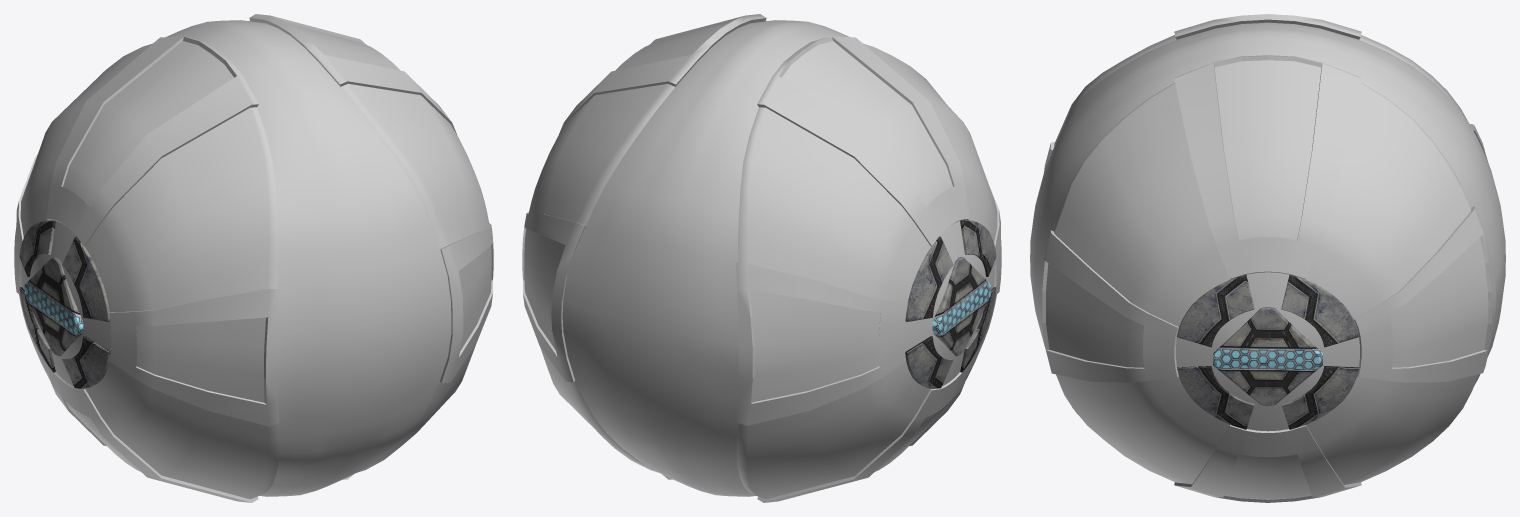
File: Ball_Sci_fi.fbx
3 renders of one model, left to right at view 1: azimuth 30°, elevation 25°; view 2: azimuth 150°, elevation 25°; view 3: azimuth 270°, elevation 25°, orthographic.
Parts seen in each view (by area): view 1: Ball_Sci_fi; view 2: Ball_Sci_fi; view 3: Ball_Sci_fi.
Boxes of the visible parts, x1,y1,x2,y2 form: Ball_Sci_fi: (14, 14, 493, 502); Ball_Sci_fi: (522, 14, 1001, 502); Ball_Sci_fi: (1030, 14, 1505, 502).
Size of the model in its own units: 1402 by 1461 by 1392.
